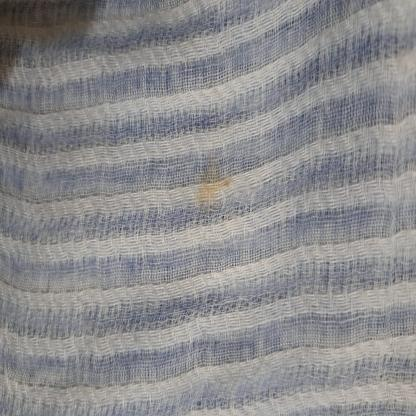spot: (186, 144, 238, 239)
